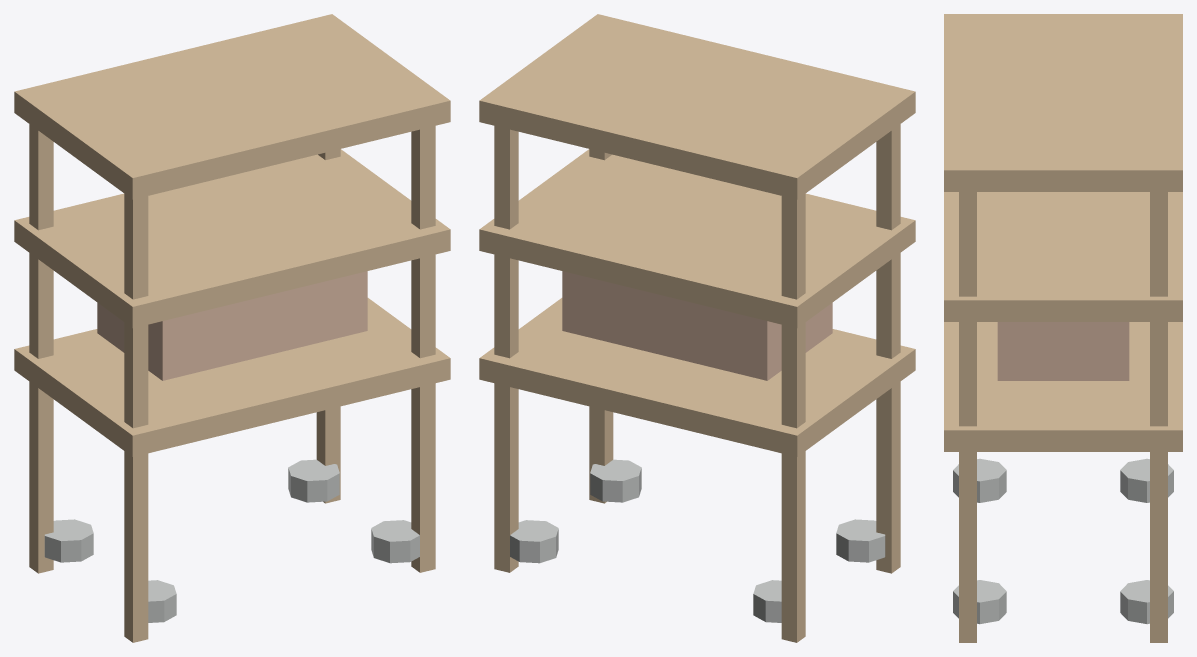
File: cart.glb
3 views of the same model, side by side, from view 1: azimuth 30°, elevation 25°; view 2: azimuth 150°, elevation 25°; view 3: azimuth 270°, elevation 25° (orthographic).
Visible parts, largest first — view 1: root; view 2: root; view 3: root.
Part boxes in pixels (x1,y1,x2,y2): root: [14, 14, 450, 642]; root: [479, 14, 915, 642]; root: [944, 14, 1182, 642].
Bounding box in the file's own units: 0.62 × 0.88 × 0.4.
